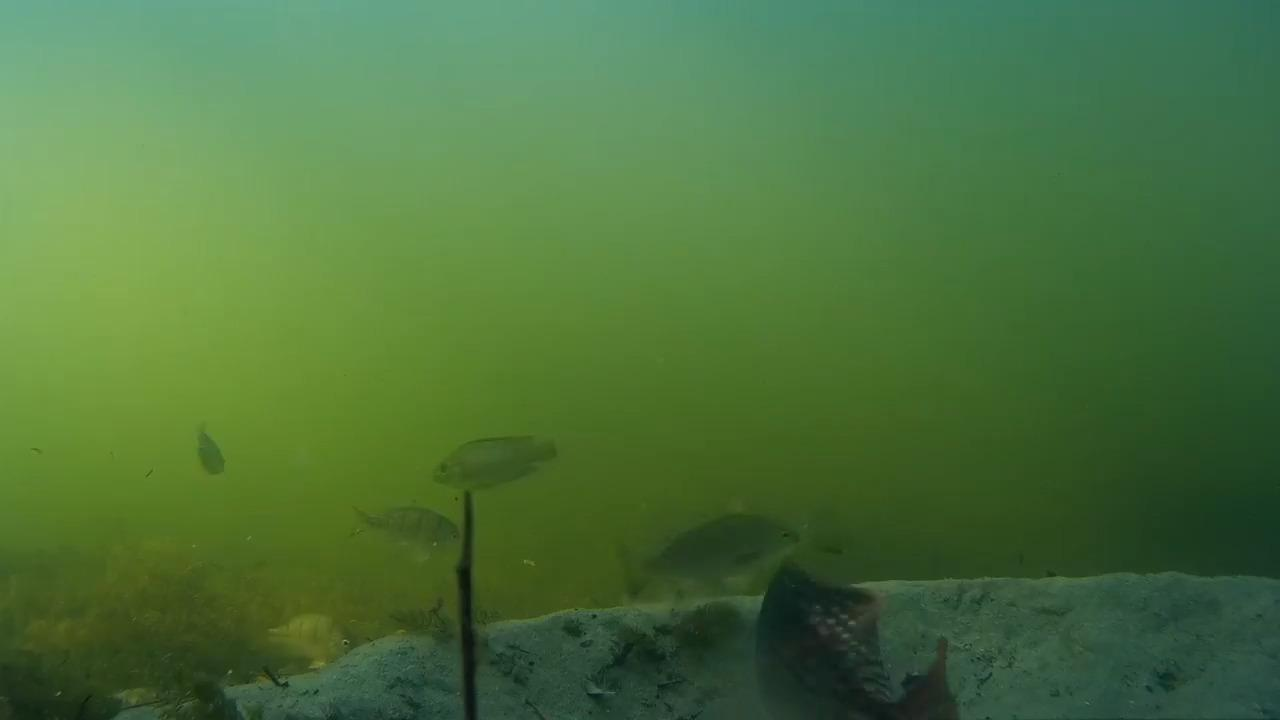Tilapia: (755, 566, 972, 720), (605, 488, 798, 598), (218, 586, 357, 690), (342, 484, 493, 568), (176, 416, 279, 504), (437, 422, 546, 502)
